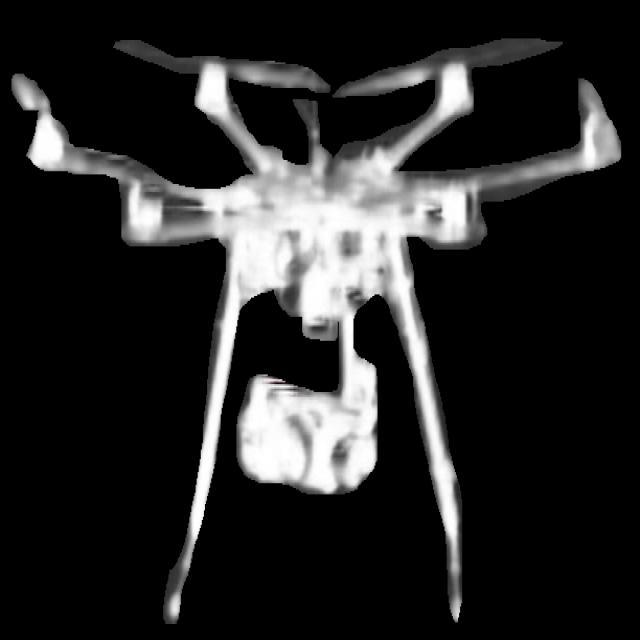drone: (6, 24, 634, 634)
